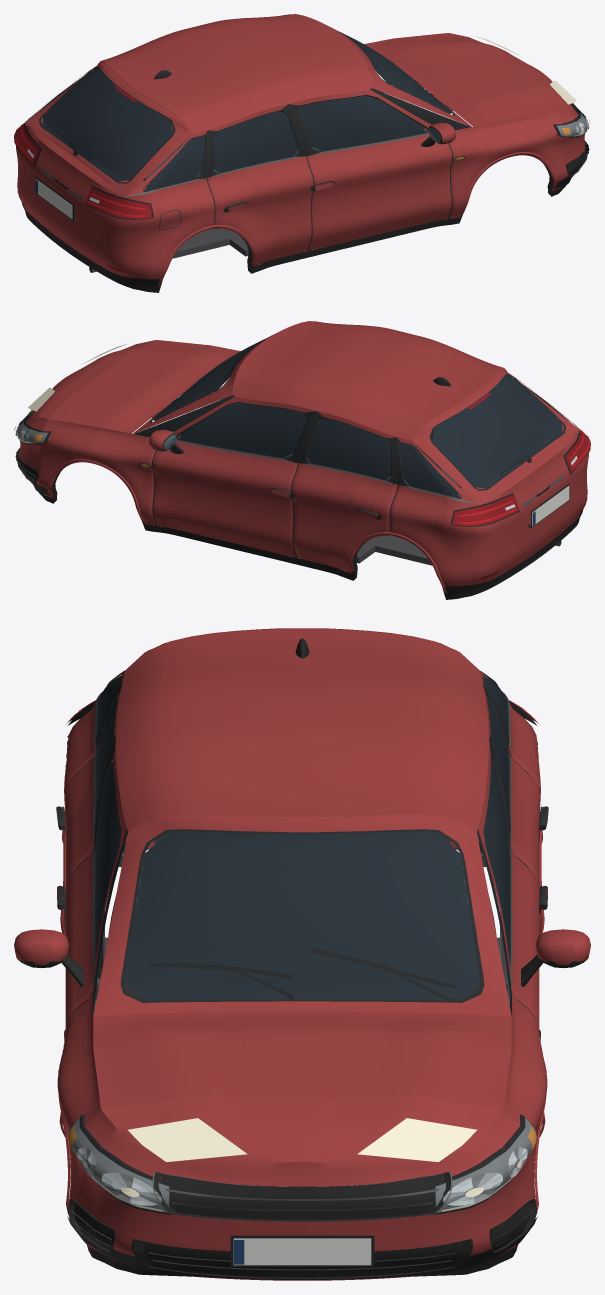
Rendered from hatch-street.glb.
3 views of the same model, one above another, from view 1: azimuth 30°, elevation 25°; view 2: azimuth 150°, elevation 25°; view 3: azimuth 270°, elevation 25° (orthographic). The views are drawn at different scales.
Visible parts, largest first — view 1: hatch, hatch_door2, hatch_door4, hatch_street_trim; view 2: hatch, hatch_door1, hatch_door3, hatch_street_trim; view 3: hatch, hatch_street_trim, hatch_door1, hatch_door2, hatch_door3, hatch_door4.
Part boxes in pixels (left/top/right/bottom): hatch: left=16, top=14, right=585, bottom=292; hatch_door2: left=288, top=89, right=455, bottom=250; hatch_door4: left=207, top=104, right=313, bottom=266; hatch_street_trim: left=14, top=62, right=590, bottom=286; hatch: left=19, top=321, right=588, bottom=599; hatch_door1: left=149, top=396, right=316, bottom=557; hatch_door3: left=291, top=411, right=397, bottom=573; hatch_street_trim: left=14, top=377, right=590, bottom=593; hatch: left=57, top=628, right=547, bottom=1280; hatch_street_trim: left=66, top=700, right=539, bottom=1279; hatch_door1: left=478, top=738, right=590, bottom=1022; hatch_door2: left=14, top=738, right=126, bottom=1022; hatch_door3: left=482, top=682, right=548, bottom=1007; hatch_door4: left=56, top=682, right=122, bottom=1007.
Bounding box in the file's own units: 4 × 1.27 × 2.13.
